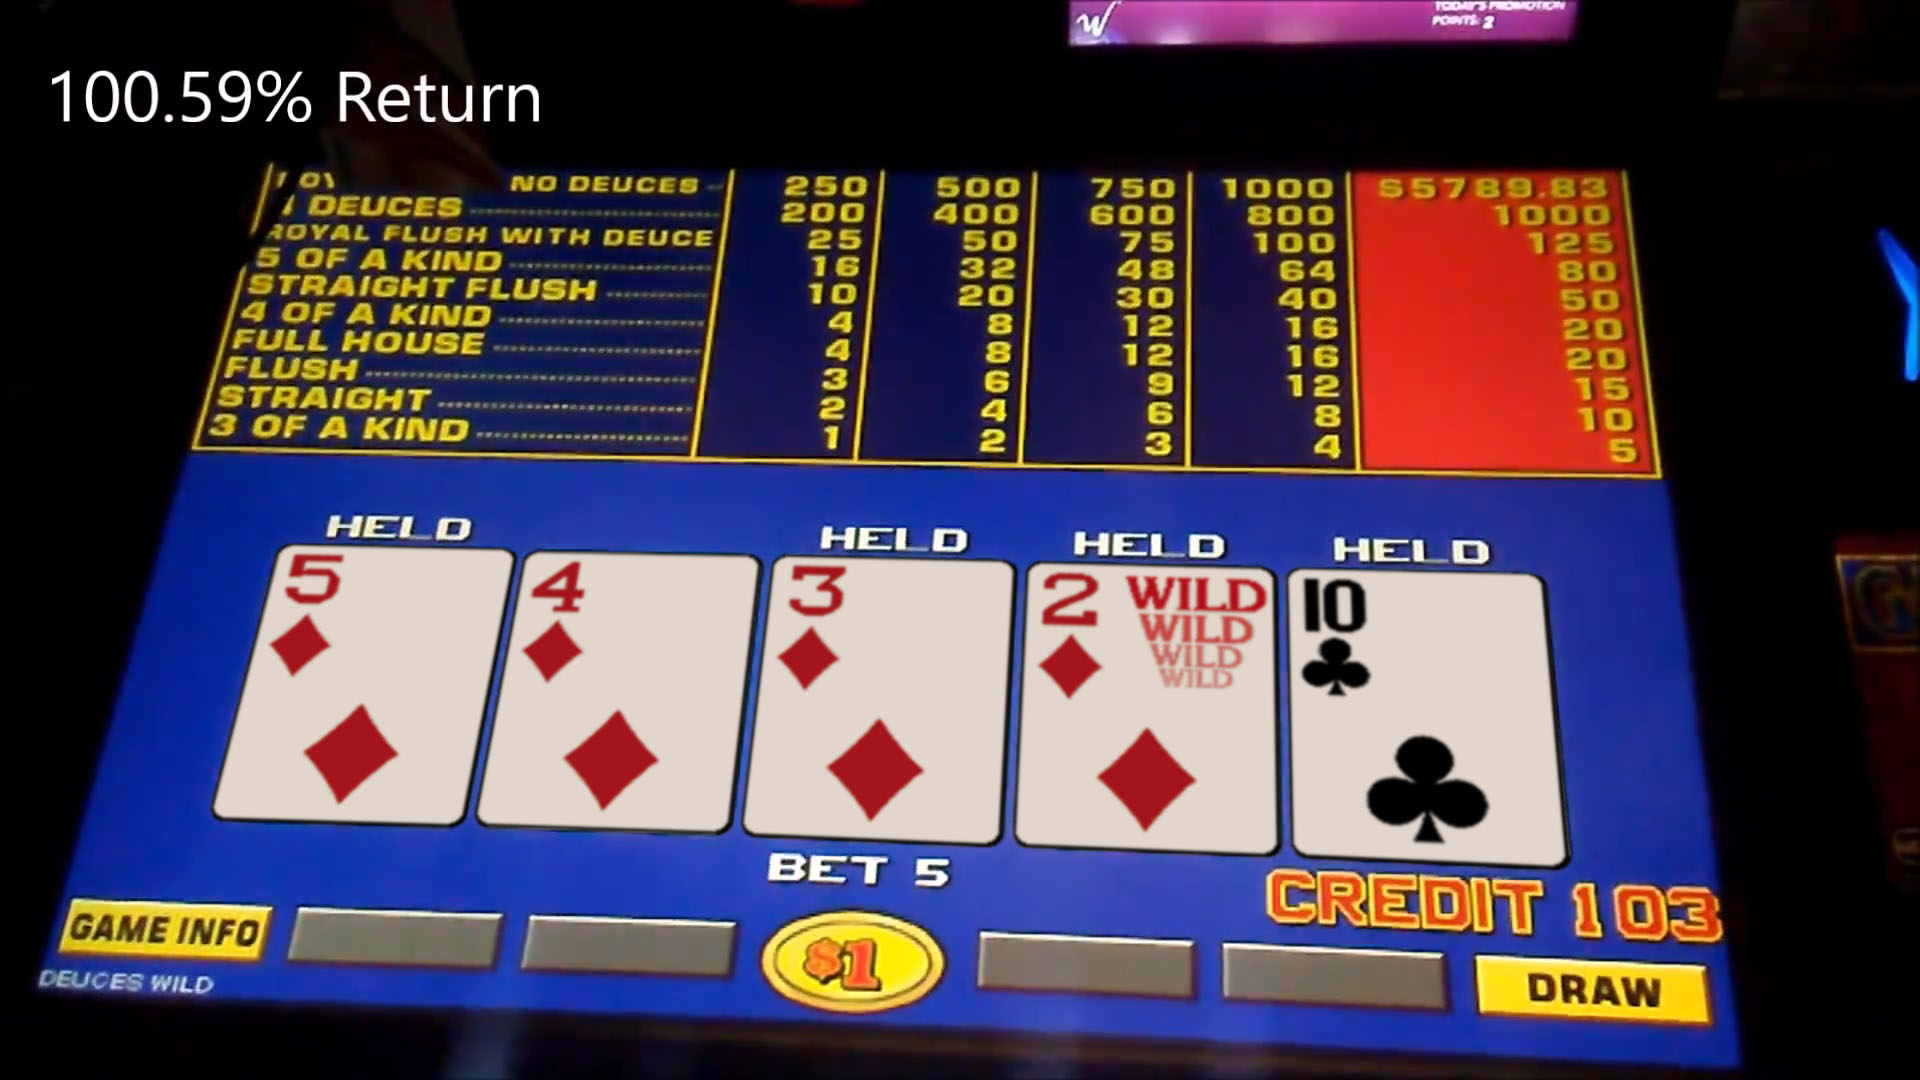CT: (1294, 575, 1553, 855)
D2W: (1029, 564, 1270, 853)
D3: (771, 558, 997, 843)
D4: (522, 553, 735, 828)
D5: (265, 549, 472, 819)
